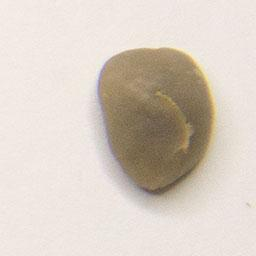premium: (93, 43, 217, 193)
